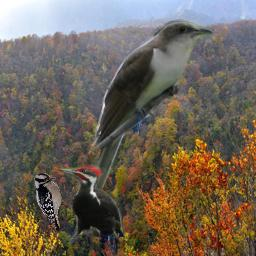Cuckoo: (72, 18, 215, 231)
Woodpecker: (57, 161, 126, 243), (34, 173, 69, 232)
